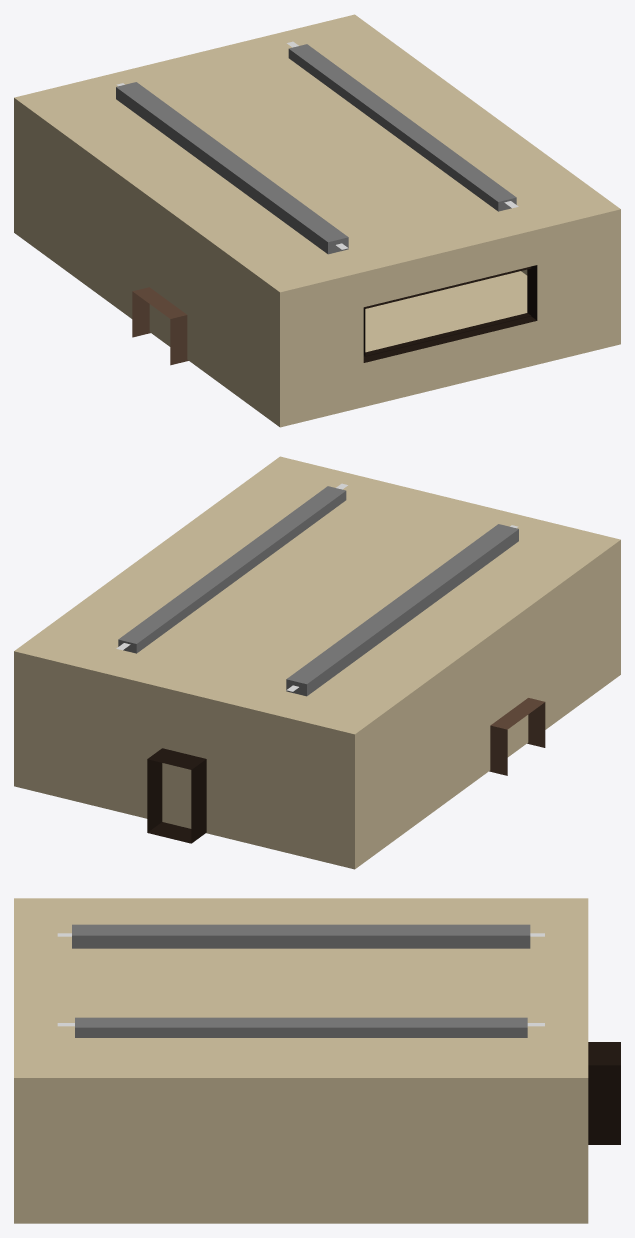
File: Kamer.fbx
The picture shows the model from 3 angles, top to bottom: view 1: azimuth 30°, elevation 25°; view 2: azimuth 150°, elevation 25°; view 3: azimuth 270°, elevation 25°; orthographic projection. The views are drawn at different scales.
Parts seen in each view (by area): view 1: pCube1, pCube17; view 2: pCube1, pCube8, pCube17; view 3: pCube1, pCube8.
Part boxes in pixels (left/top/right/bottom): pCube1: left=14, top=14, right=620, bottom=427; pCube17: left=132, top=287, right=188, bottom=365; pCube1: left=14, top=456, right=620, bottom=869; pCube8: left=147, top=748, right=206, bottom=843; pCube17: left=489, top=698, right=545, bottom=775; pCube1: left=14, top=898, right=588, bottom=1223; pCube8: left=588, top=1042, right=620, bottom=1144.
Bounding box in the file's own units: 8.1 × 3.29 × 11.01.
